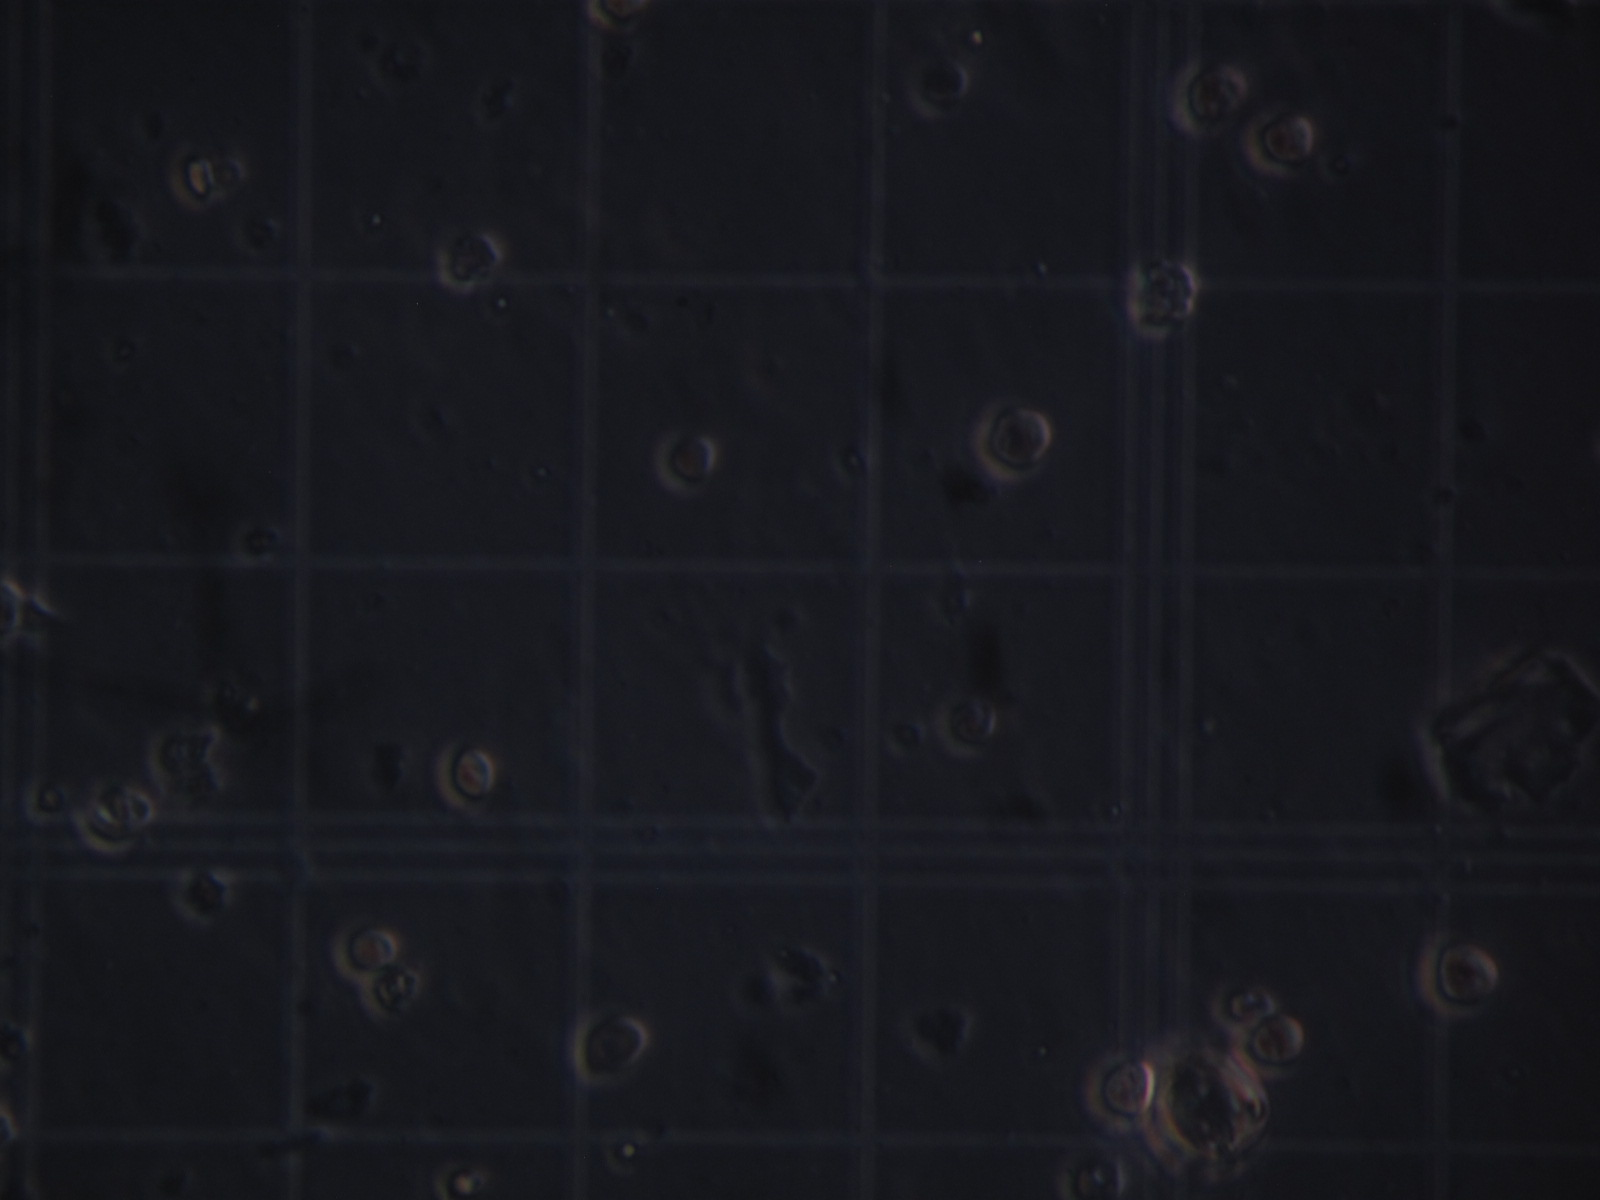hemo: (1416, 926, 1495, 1024), (978, 398, 1054, 485), (1083, 1045, 1155, 1132), (567, 1008, 650, 1082), (1130, 258, 1201, 344), (72, 784, 154, 856), (1174, 59, 1247, 136), (1243, 112, 1315, 184), (435, 224, 503, 297), (438, 740, 498, 821), (331, 915, 401, 982), (1238, 1015, 1306, 1080), (655, 435, 719, 497), (1209, 983, 1283, 1035), (360, 966, 425, 1018), (169, 145, 215, 211)
